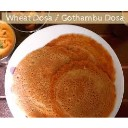dosa: (15, 34, 116, 117)
